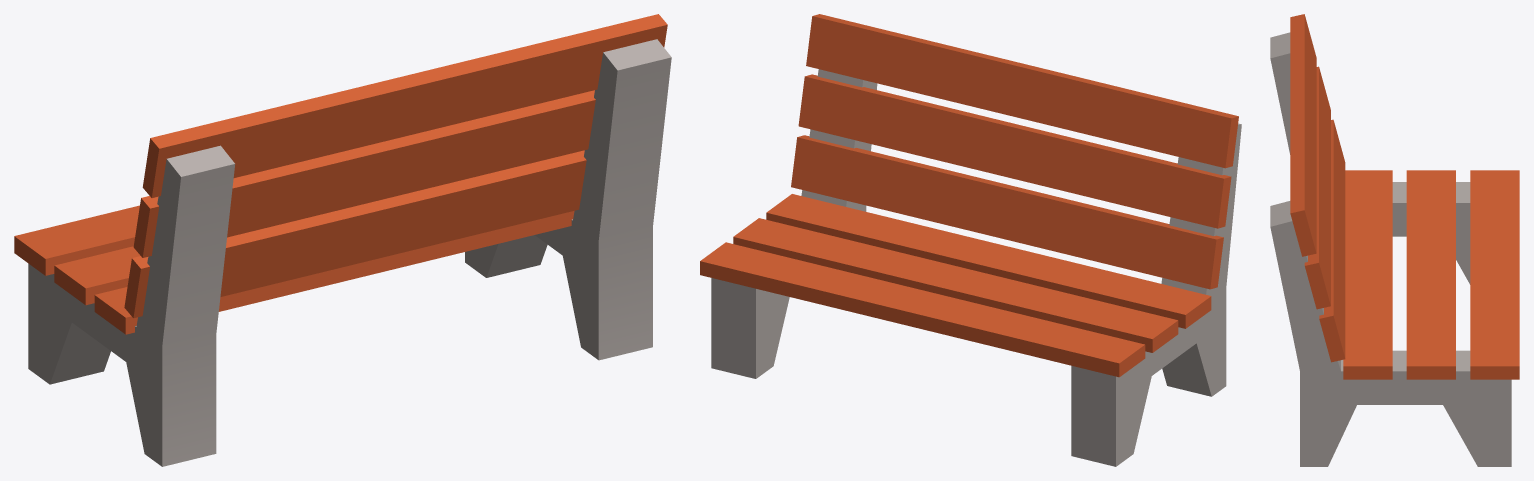
Rendered from GardenBench.fbx.
The picture shows the model from 3 angles, left to right: view 1: azimuth 30°, elevation 25°; view 2: azimuth 150°, elevation 25°; view 3: azimuth 270°, elevation 25°; orthographic projection. The views are drawn at different scales.
Visible parts, largest first — view 1: pCube9; view 2: pCube9; view 3: pCube9.
Part boxes in pixels (<box>): pCube9: <box>14,14,671,466</box>; pCube9: <box>700,14,1241,466</box>; pCube9: <box>1270,14,1519,466</box>.
Bounding box in the file's own units: 5.93 × 3.67 × 3.18.
Materials: 1 (1 with a texture image).
